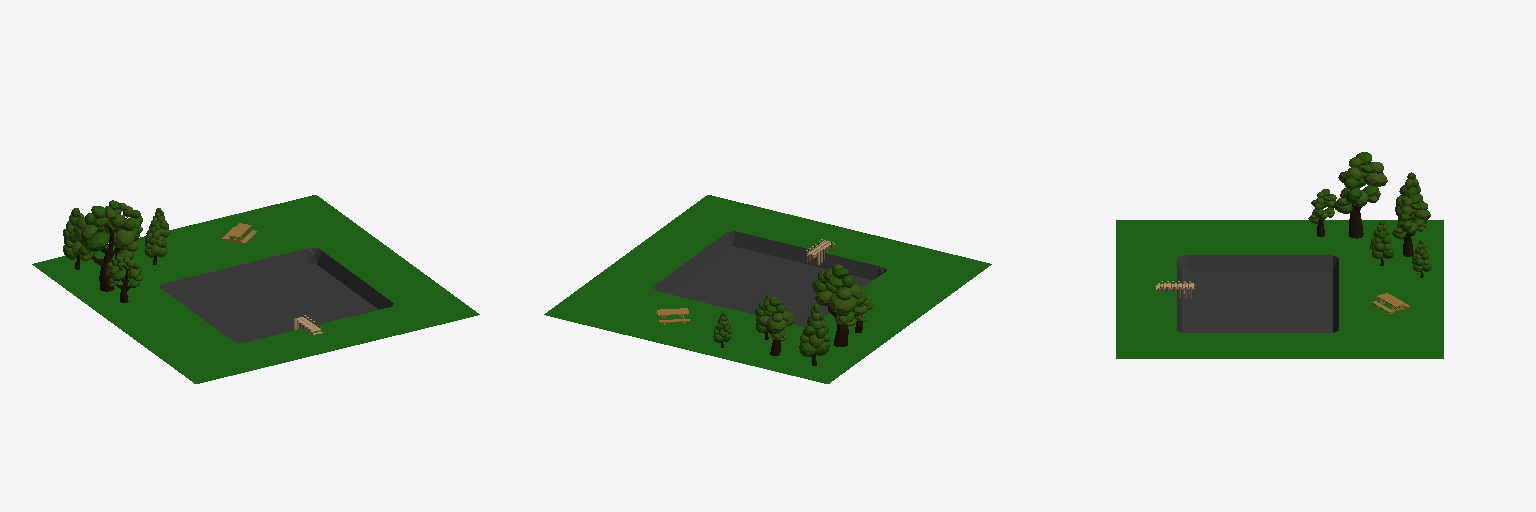
File: squarelake.obj
The picture shows the model from 3 angles: view 1: azimuth 30°, elevation 25°; view 2: azimuth 150°, elevation 25°; view 3: azimuth 270°, elevation 25°; orthographic projection.
Parts seen in each view (by area): view 1: Oak_Cylinder.002_Oak_Cylinder.006; view 2: Oak_Cylinder.002_Oak_Cylinder.006; view 3: Oak_Cylinder.002_Oak_Cylinder.006.
Boxes of the visible parts, <box> form: Oak_Cylinder.002_Oak_Cylinder.006: <box>32,195,479,383</box>; Oak_Cylinder.002_Oak_Cylinder.006: <box>544,195,991,383</box>; Oak_Cylinder.002_Oak_Cylinder.006: <box>1116,152,1443,358</box>.
Bounding box in the file's own units: 60 × 18.66 × 60.